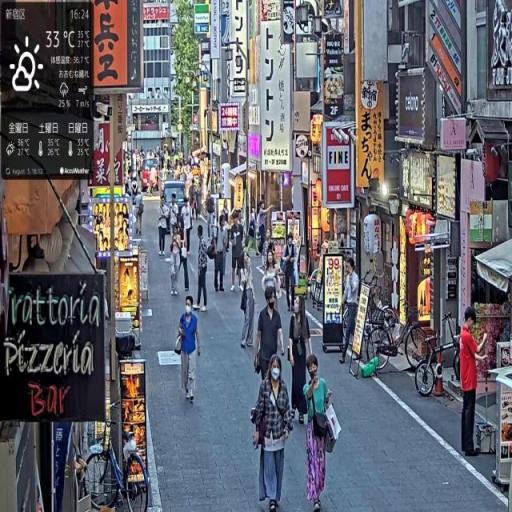person: (251, 353, 296, 512), (303, 351, 338, 512), (254, 284, 286, 421), (460, 308, 489, 459), (288, 297, 314, 427), (176, 295, 204, 405), (341, 256, 361, 361), (193, 221, 215, 315), (282, 231, 300, 314), (231, 211, 246, 294), (169, 222, 186, 295), (214, 212, 229, 293), (158, 193, 171, 260)
